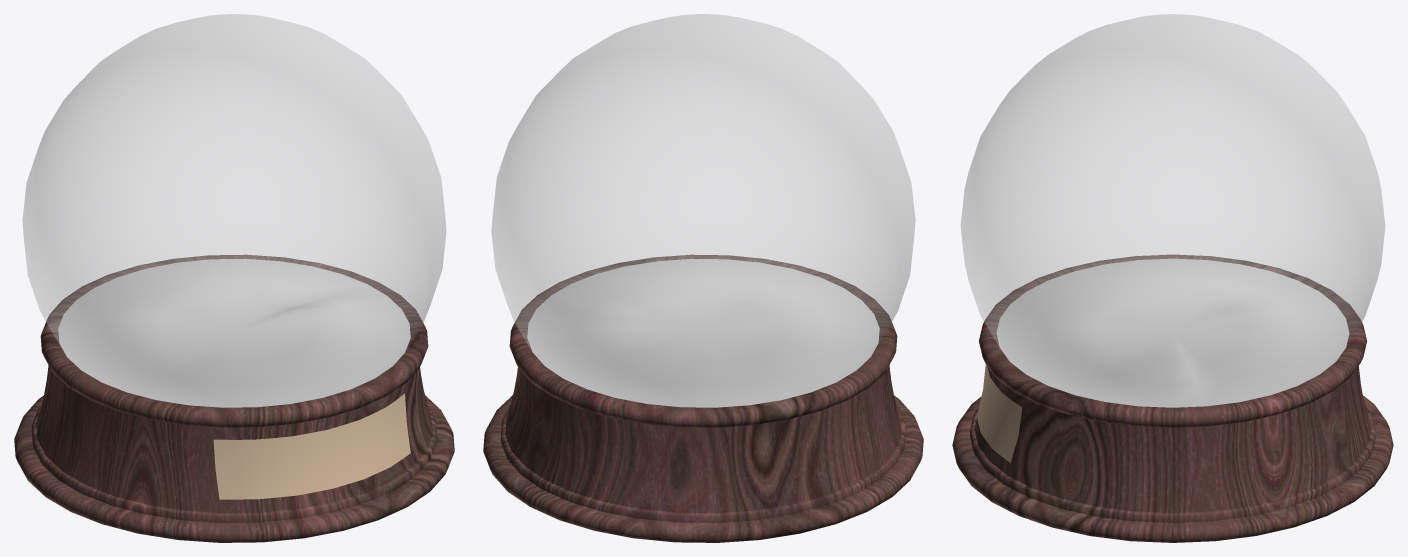
Rendered from snowglobe.fbx.
3 renders of one model, left to right at view 1: azimuth 30°, elevation 25°; view 2: azimuth 150°, elevation 25°; view 3: azimuth 270°, elevation 25°, orthographic.
Visible parts, largest first — view 1: Globe-Glass-material, Globe-Wood-material, Snow-material, Globe-Plaque-material; view 2: Globe-Glass-material, Globe-Wood-material, Snow-material; view 3: Globe-Glass-material, Globe-Wood-material, Snow-material, Globe-Plaque-material.
Part boxes in pixels (bbox=[...]): Globe-Glass-material: bbox=[22, 14, 446, 407]; Globe-Wood-material: bbox=[14, 254, 454, 542]; Snow-material: bbox=[58, 258, 410, 407]; Globe-Plaque-material: bbox=[213, 393, 410, 499]; Globe-Glass-material: bbox=[491, 14, 915, 407]; Globe-Wood-material: bbox=[483, 254, 923, 542]; Snow-material: bbox=[527, 258, 879, 407]; Globe-Glass-material: bbox=[961, 14, 1384, 407]; Globe-Wood-material: bbox=[952, 254, 1393, 542]; Snow-material: bbox=[996, 258, 1349, 407]; Globe-Plaque-material: bbox=[977, 364, 1022, 462].
Bounding box in the file's own units: 1000 × 1059 × 1000.
5 materials, 1 textured.
